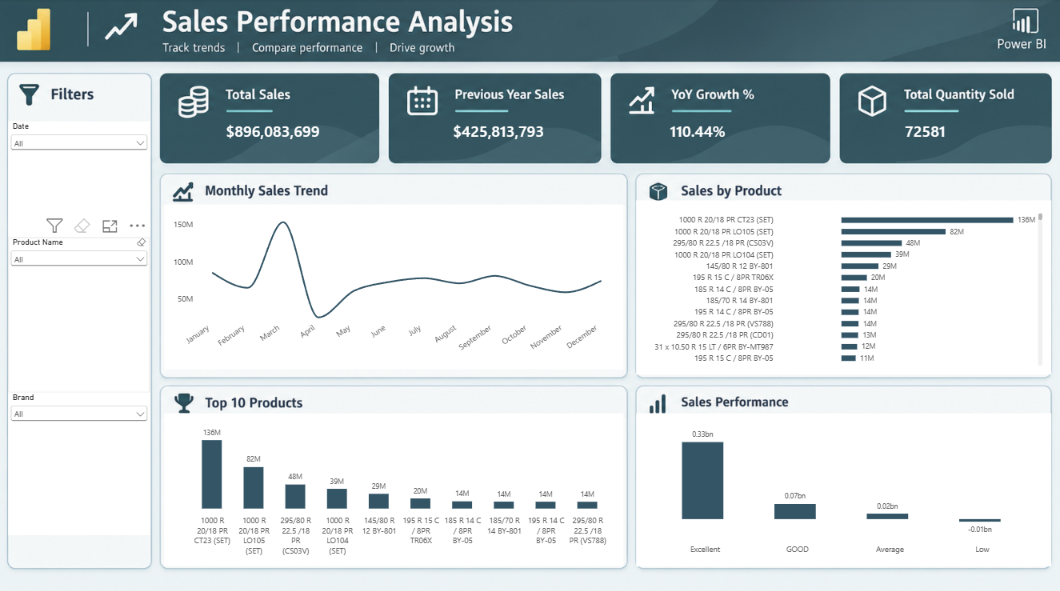

The page's visual inventory and layout, read from the dashboard file:
{"tool":"powerbi","page":{"name":"Sales Analysis","canvas":[1920,1080],"ordinal":2},"visuals":[{"type":"cardVisual","fields":{"Data":["DS Data Set - Sales.TOTAL SALES"]},"box":[395.2,191.4,279.9,94.7],"z":0},{"type":"cardVisual","fields":{"Data":["DS Data Set - Current Stock.previose year sales"]},"box":[804.8,191.4,279.9,94.7],"z":1000},{"type":"cardVisual","fields":{"Data":["DS Data Set - Current Stock.YoY Sales Growth"]},"box":[1197.9,191.4,279.9,94.7],"z":2000},{"type":"cardVisual","fields":{"Data":["DS Data Set - Current Stock.Total Quantity sold"]},"box":[1624,191.4,279.9,94.7],"z":3000},{"type":"lineChart","fields":{"Category":["DS Data Set - Sales.Date.Variation.Date Hierarchy.Month"],"Y":["Sum(DS Data Set - Sales.sales)"]},"box":[298.5,372.6,831.6,298.5],"z":4000},{"type":"barChart","fields":{"Category":["DS Data Set - Sales.Product Name"],"Y":["DS Data Set - Sales.Total Sales"]},"box":[1152.7,366.4,751.3,314.9],"z":5000},{"type":"columnChart","fields":{"Category":["DS Data Set - Sales.Product Name"],"Y":["DS Data Set - Sales.TOTAL SALES"]},"box":[298.5,751.3,831.6,275.8],"z":6000},{"type":"columnChart","fields":{"Category":["DS Data Set - Sales.Sale Perfomance og"],"Y":["DS Data Set - Sales.TOTAL SALES"]},"box":[1152.8,751,751,276.9],"z":7000},{"type":"slicer","fields":{"Values":["DS Data Set - Sales.Date"]},"box":[16.3,222.6,257,209.9],"z":8000},{"type":"slicer","fields":{"Values":["DS Data Set - Sales.Product Name"]},"box":[16.3,432.5,257,280.5],"z":9000},{"type":"slicer","fields":{"Values":["DS Data Set - Supplier.Brand"]},"box":[16.3,713,257,258.8],"z":10000}]}

Visuals, with their boxes in screenshot pixels (x1, y1, x2, y2), scaled from the page's 1920x1080 canvas onto the 1060x591 screenshot:
cardVisual - DS Data Set - Sales.TOTAL SALES: rect(218, 105, 373, 157)
cardVisual - DS Data Set - Current Stock.previose year sales: rect(444, 105, 599, 157)
cardVisual - DS Data Set - Current Stock.YoY Sales Growth: rect(661, 105, 816, 157)
cardVisual - DS Data Set - Current Stock.Total Quantity sold: rect(897, 105, 1051, 157)
lineChart - DS Data Set - Sales.Date.Variation.Date Hierarchy.Month x Sum(DS Data Set - Sales.sales): rect(165, 204, 624, 367)
barChart - DS Data Set - Sales.Product Name x DS Data Set - Sales.Total Sales: rect(636, 201, 1051, 373)
columnChart - DS Data Set - Sales.Product Name x DS Data Set - Sales.TOTAL SALES: rect(165, 411, 624, 562)
columnChart - DS Data Set - Sales.Sale Perfomance og x DS Data Set - Sales.TOTAL SALES: rect(636, 411, 1051, 562)
slicer - DS Data Set - Sales.Date: rect(9, 122, 151, 237)
slicer - DS Data Set - Sales.Product Name: rect(9, 237, 151, 390)
slicer - DS Data Set - Supplier.Brand: rect(9, 390, 151, 532)
